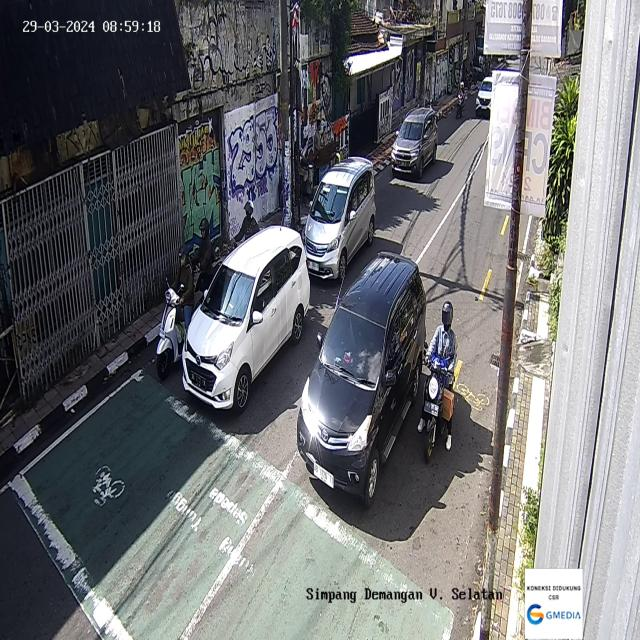car: (296, 250, 427, 509), (182, 224, 310, 412), (302, 154, 376, 282), (390, 106, 438, 180), (475, 76, 492, 115)
motorcycle: (417, 299, 462, 463), (156, 241, 203, 378), (179, 218, 225, 296), (223, 200, 263, 251), (456, 80, 466, 119)
